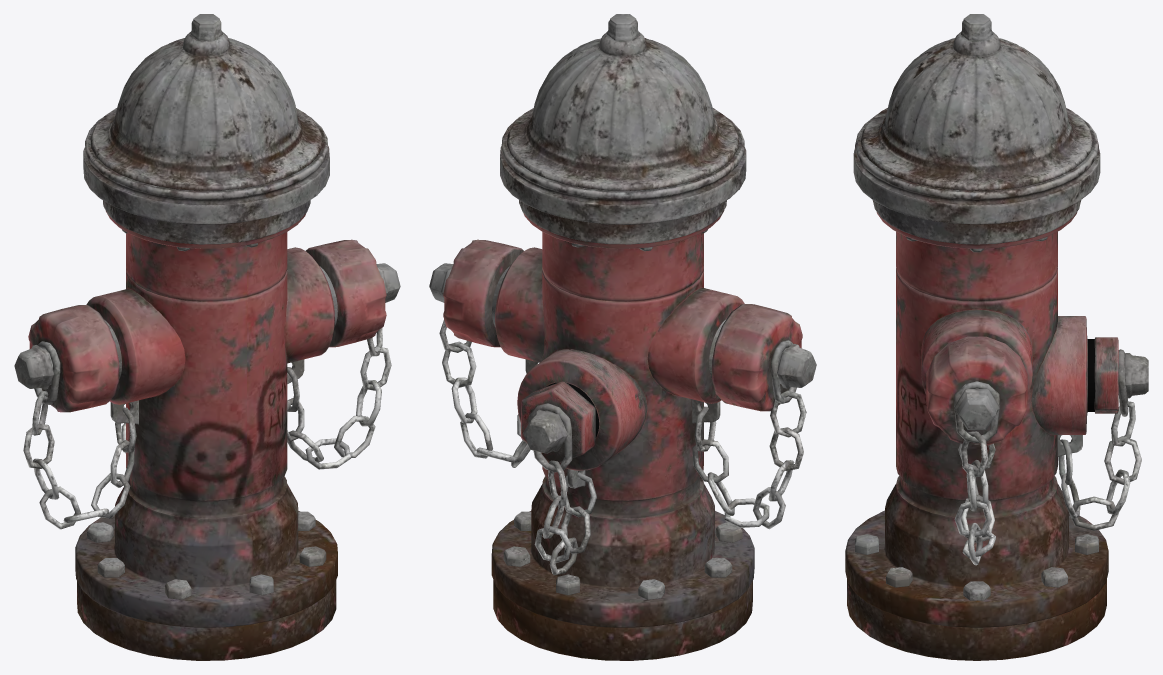
Rendered from fire-hydrant.glb.
The picture shows the model from 3 angles, left to right: view 1: azimuth 30°, elevation 25°; view 2: azimuth 150°, elevation 25°; view 3: azimuth 270°, elevation 25°; orthographic projection.
Parts seen in each view (by area): view 1: Cylinder (×3); view 2: Cylinder (×3); view 3: Cylinder (×3).
Part boxes in pixels (left/top/right/bottom): Cylinder (×3): left=14, top=14, right=400, bottom=660; Cylinder (×3): left=429, top=14, right=816, bottom=660; Cylinder (×3): left=845, top=14, right=1148, bottom=660.
Bounding box in the file's own units: 1.32 × 2 × 0.9359.
3 materials, 3 textured.
